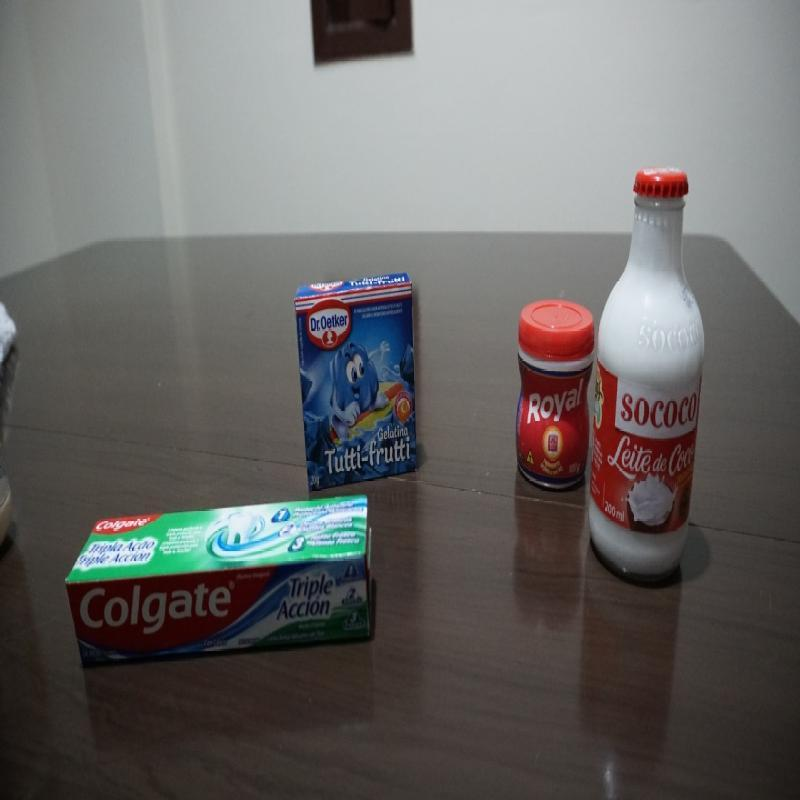Coconut Milk: (593, 161, 704, 593)
Gelatine: (294, 272, 428, 480)
Toothpaste: (68, 506, 377, 670)
Yeast: (513, 302, 592, 501)
